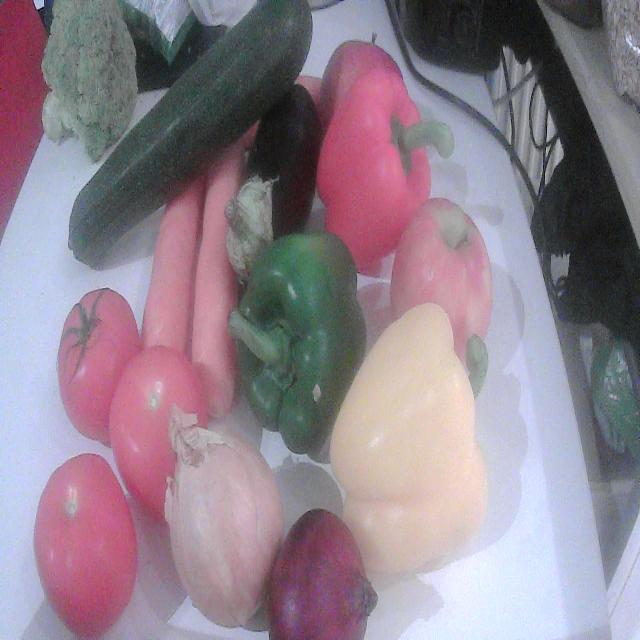Apple: (390, 198, 492, 364)
Bell Pepper: (330, 304, 488, 574), (229, 232, 366, 456), (318, 66, 454, 271)
Broccoli: (42, 0, 138, 162)
Carrot: (192, 142, 246, 417), (141, 166, 207, 355)
Courgette: (69, 0, 312, 265)
Eggplant: (226, 84, 322, 281)
Onion: (164, 411, 281, 628), (268, 509, 378, 639)
Tomato: (34, 455, 137, 639), (109, 347, 206, 520), (58, 288, 140, 444)
